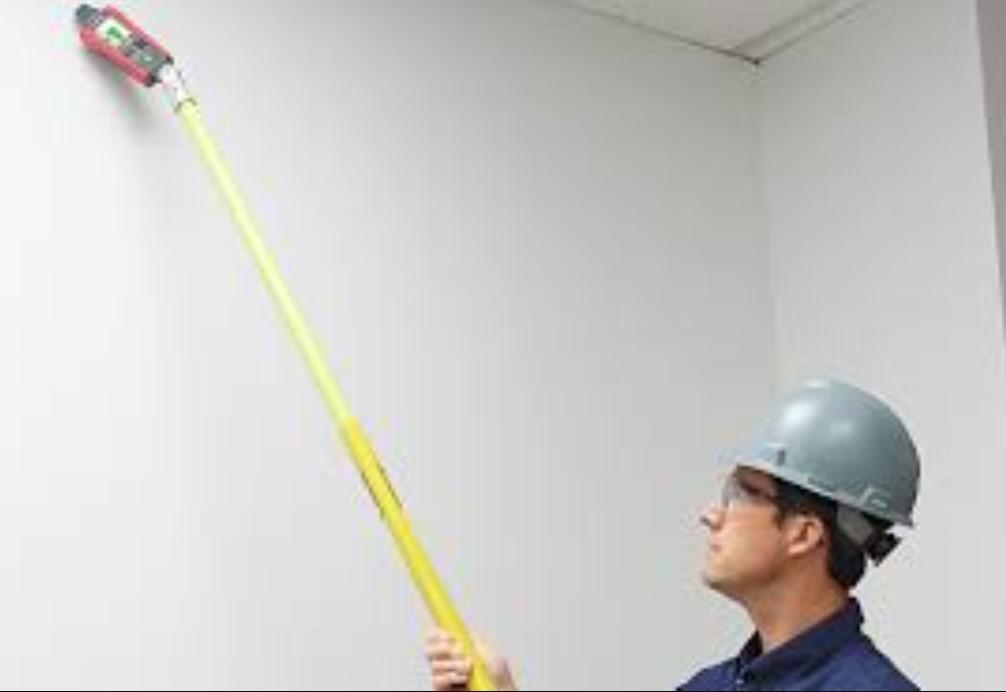Detector_Tensao_Contato: (68, 1, 181, 92)
Vara_Manobra: (158, 73, 488, 692)
